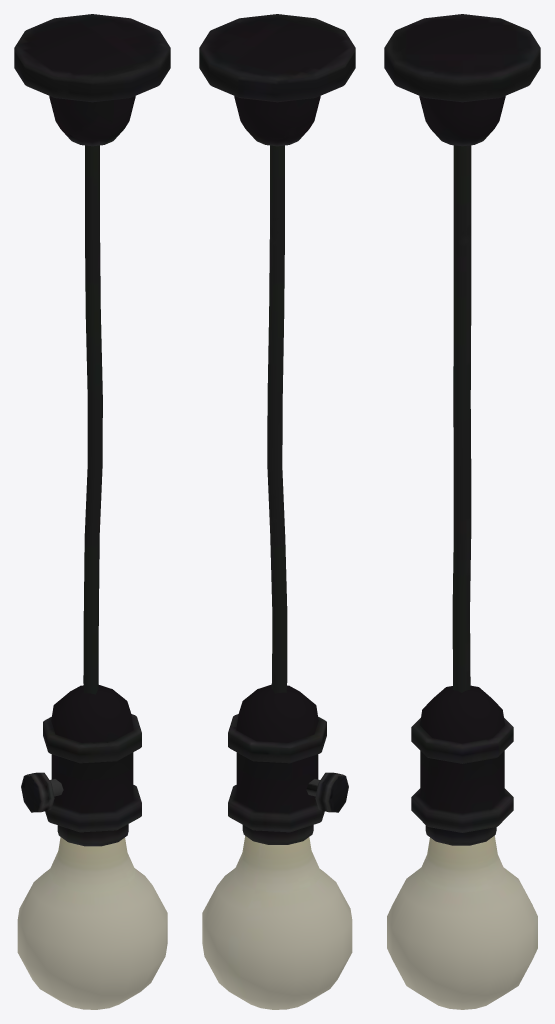
The picture shows the model from 3 angles, left to right: view 1: azimuth 30°, elevation 25°; view 2: azimuth 150°, elevation 25°; view 3: azimuth 270°, elevation 25°; orthographic projection.
Bounding box in the file's own units: 2.3 × 15.52 × 2.3.
Materials: 1 (1 with a texture image).
